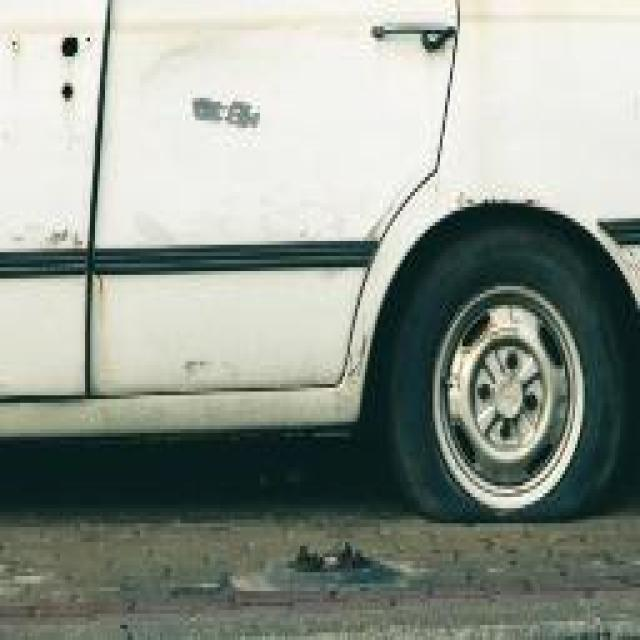Door: (18, 34, 82, 376), (188, 56, 265, 162)
